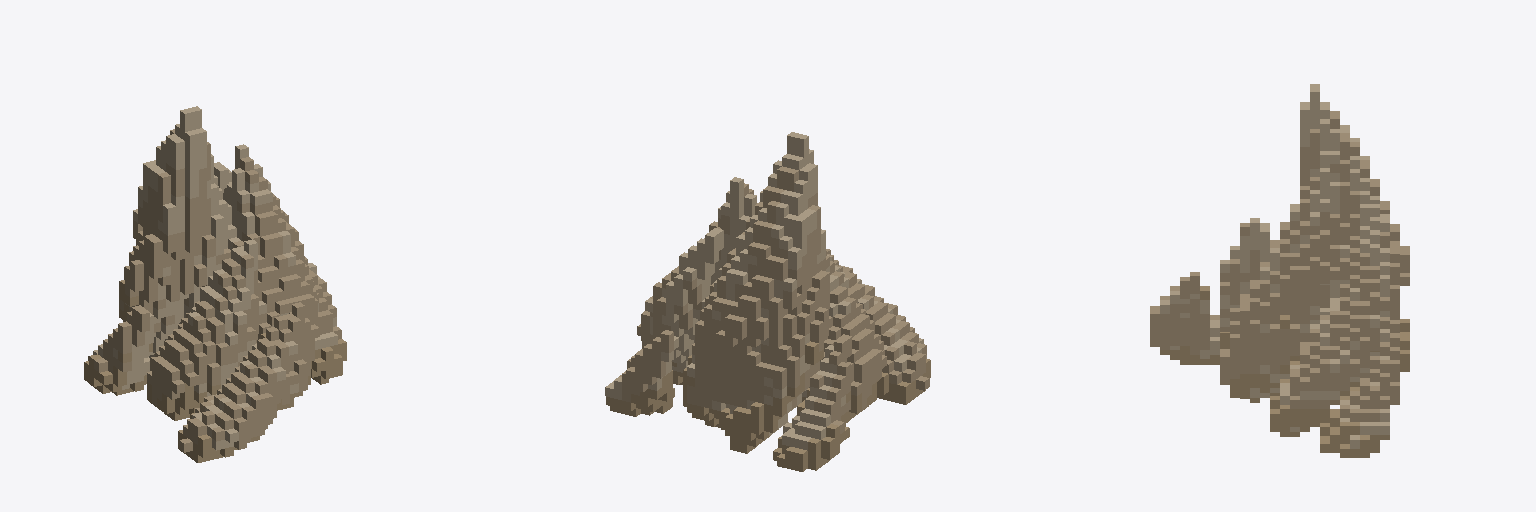
The picture shows the model from 3 angles: view 1: azimuth 30°, elevation 25°; view 2: azimuth 150°, elevation 25°; view 3: azimuth 270°, elevation 25°; orthographic projection.
Visible parts, largest first — view 1: Voxelized_rock5; view 2: Voxelized_rock5; view 3: Voxelized_rock5.
Part boxes in pixels (bbox=[...]): Voxelized_rock5: bbox=[84, 106, 346, 462]; Voxelized_rock5: bbox=[605, 132, 930, 471]; Voxelized_rock5: bbox=[1150, 84, 1409, 457].
Size of the model in its own units: 27 by 32 by 26.
1 materials, 1 textured.